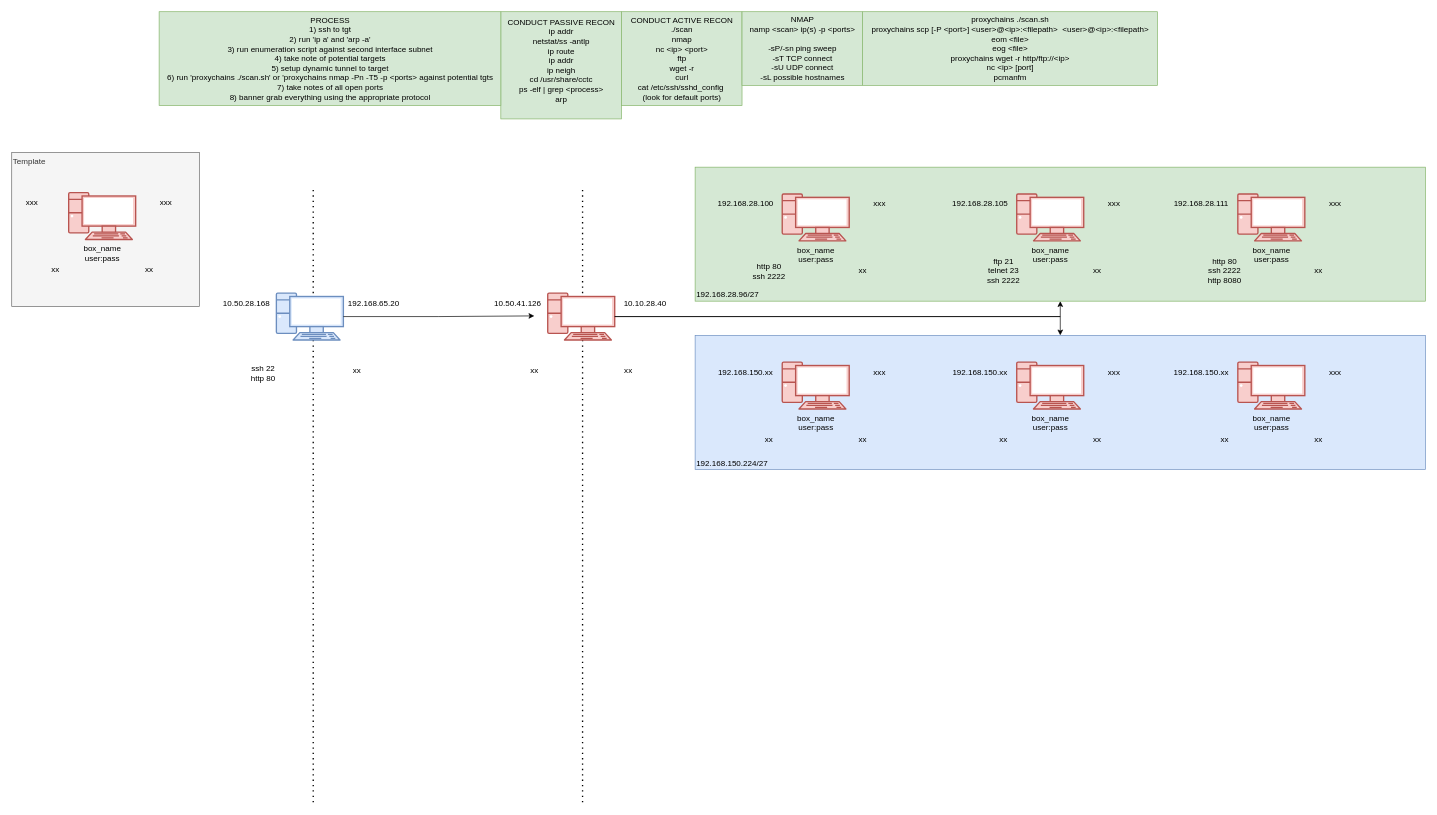
Image size: 1437x815. Some labels were removed from this diagram. The centre of each missing label's shape, as x and y in pixels:
lin-ops student:password: the point at 309,316
pivot student:JQ00ViypQ4Vzuib: the point at 581,316
